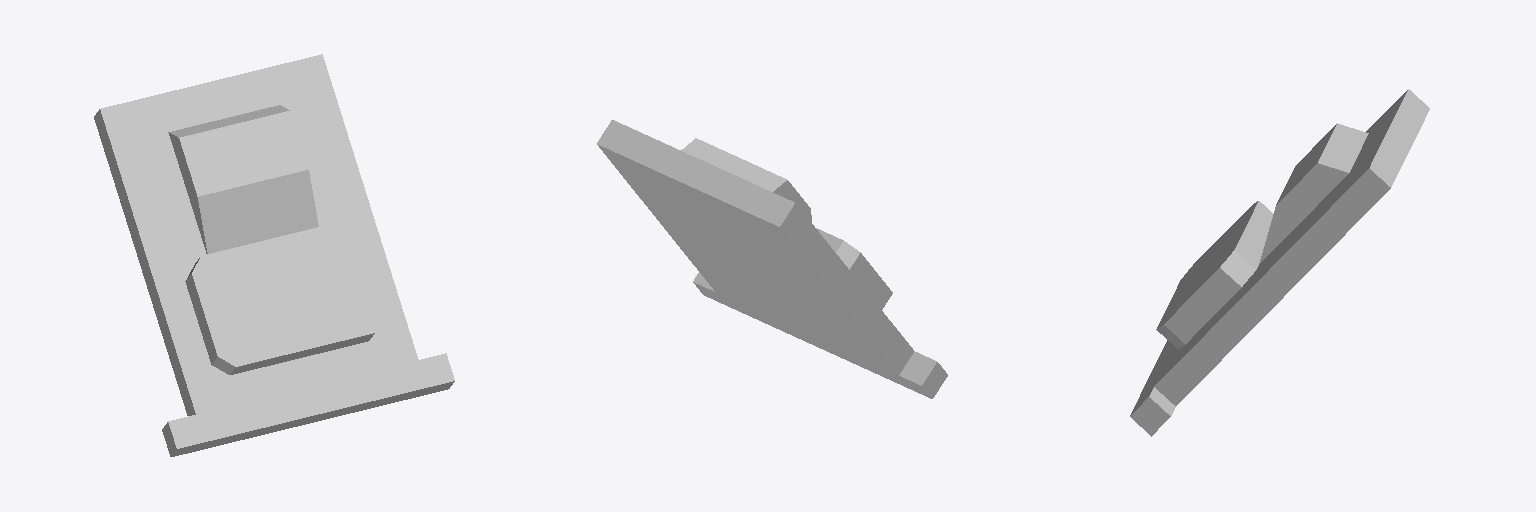
File: eyestuff_building.obj
3 renders of one model, left to right at view 1: azimuth 30°, elevation 25°; view 2: azimuth 150°, elevation 25°; view 3: azimuth 270°, elevation 25°, orthographic.
Visible parts, largest first — view 1: eyestuff_building_entity3_brush0; view 2: eyestuff_building_entity3_brush0; view 3: eyestuff_building_entity3_brush0.
Part boxes in pixels (x1,y1,x2,y2): eyestuff_building_entity3_brush0: (94,54,454,456); eyestuff_building_entity3_brush0: (597,120,947,398); eyestuff_building_entity3_brush0: (1130,89,1429,436).
Size of the model in its own units: 10.05 by 10.51 by 10.08.